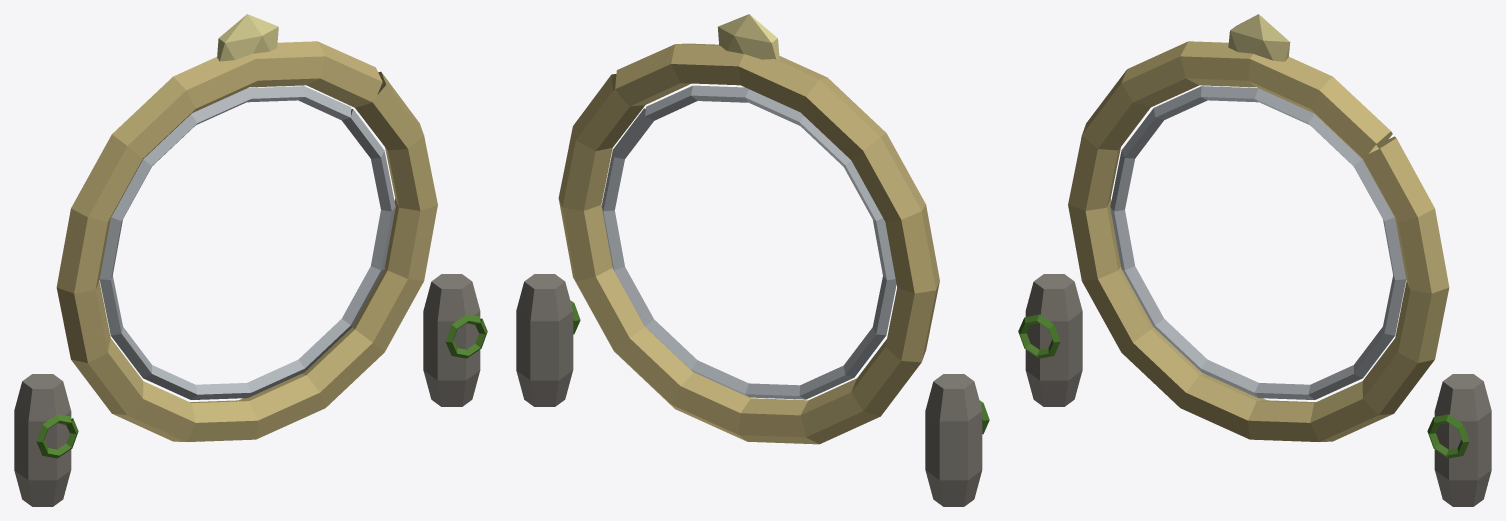
The model's file is elf_landmark_broken.glb.
3 renders of one model, left to right at view 1: azimuth 30°, elevation 25°; view 2: azimuth 150°, elevation 25°; view 3: azimuth 330°, elevation 25°, orthographic.
Visible parts, largest first — view 1: elf_landmark_piece4, elf_landmark_piece1, elf_landmark_piece5, elf_landmark_piece9, elf_landmark_piece8, elf_landmark_piece6, elf_landmark_piece3, elf_landmark_piece7, elf_landmark_piece2, elf_landmark_piece11, elf_landmark_piece10; view 2: elf_landmark_piece4, elf_landmark_piece2, elf_landmark_piece5, elf_landmark_piece1, elf_landmark_piece8, elf_landmark_piece9, elf_landmark_piece6, elf_landmark_piece10, elf_landmark_piece3, elf_landmark_piece7, elf_landmark_piece0, elf_landmark_piece11; view 3: elf_landmark_piece4, elf_landmark_piece1, elf_landmark_piece5, elf_landmark_piece9, elf_landmark_piece8, elf_landmark_piece6, elf_landmark_piece7, elf_landmark_piece2, elf_landmark_piece11, elf_landmark_piece3, elf_landmark_piece10.
Part boxes in pixels (x1,y1,x2,y2): elf_landmark_piece4: (297, 228, 487, 406); elf_landmark_piece1: (14, 222, 124, 506); elf_landmark_piece5: (302, 43, 437, 237); elf_landmark_piece9: (201, 14, 338, 122); elf_landmark_piece8: (172, 360, 328, 441); elf_landmark_piece6: (128, 25, 237, 209); elf_landmark_piece3: (28, 156, 128, 376); elf_landmark_piece7: (116, 366, 209, 441); elf_landmark_piece2: (90, 115, 138, 305); elf_landmark_piece11: (114, 329, 156, 418); elf_landmark_piece10: (371, 152, 414, 262); elf_landmark_piece4: (516, 224, 698, 409); elf_landmark_piece2: (849, 118, 909, 406); elf_landmark_piece5: (558, 45, 693, 204); elf_landmark_piece1: (866, 230, 989, 506); elf_landmark_piece8: (677, 361, 820, 444); elf_landmark_piece9: (672, 14, 794, 123); elf_landmark_piece6: (761, 24, 874, 209); elf_landmark_piece10: (559, 163, 624, 267); elf_landmark_piece3: (892, 143, 952, 446); elf_landmark_piece7: (799, 366, 876, 443); elf_landmark_piece0: (758, 24, 809, 134); elf_landmark_piece11: (842, 329, 878, 417); elf_landmark_piece4: (1309, 305, 1491, 506); elf_landmark_piece1: (1018, 149, 1134, 406); elf_landmark_piece5: (1315, 79, 1449, 322); elf_landmark_piece9: (1210, 14, 1335, 130); elf_landmark_piece8: (1191, 360, 1327, 441); elf_landmark_piece6: (1127, 21, 1246, 152); elf_landmark_piece7: (1130, 320, 1208, 412); elf_landmark_piece2: (1105, 60, 1146, 267); elf_landmark_piece11: (1115, 269, 1165, 360); elf_landmark_piece3: (1056, 90, 1118, 277); elf_landmark_piece10: (1383, 232, 1447, 323).
Bounding box in the file's own units: 3.2 × 2.95 × 0.385.
